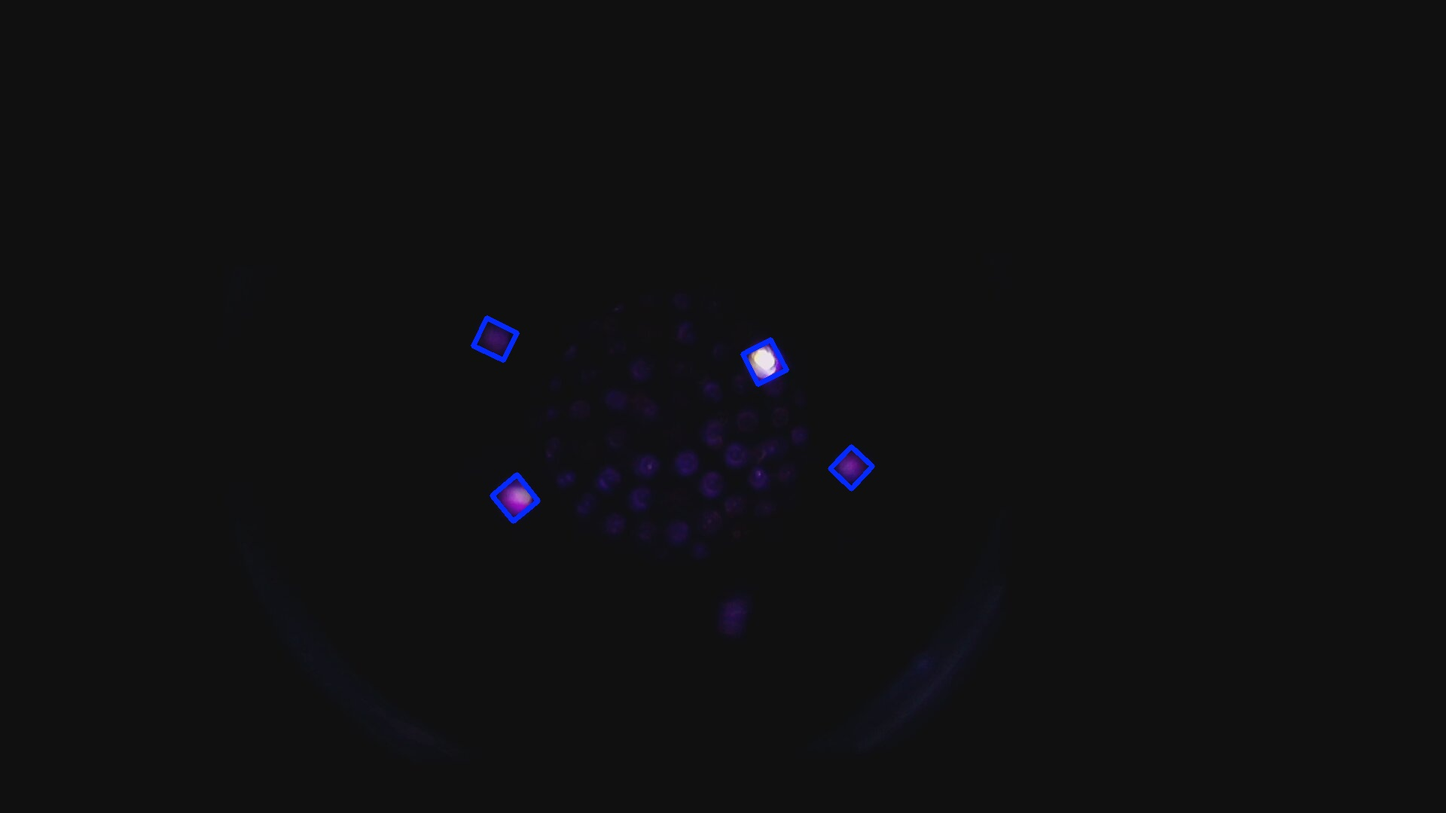plastic: (744, 341, 785, 383), (495, 477, 536, 518), (476, 321, 515, 358), (833, 449, 870, 486)
